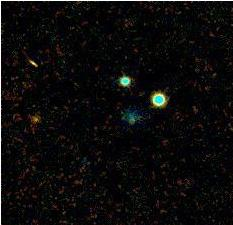star: (20, 104, 50, 134)
